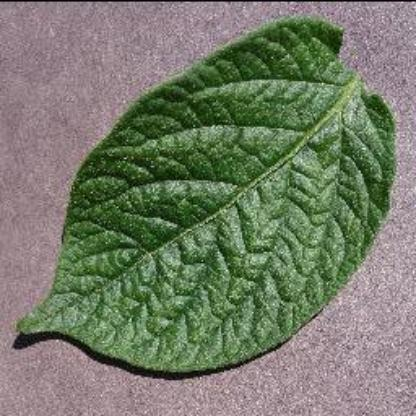Healthy-plant: (17, 11, 400, 376)
